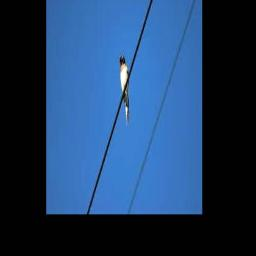Swallow: (119, 54, 130, 125)
